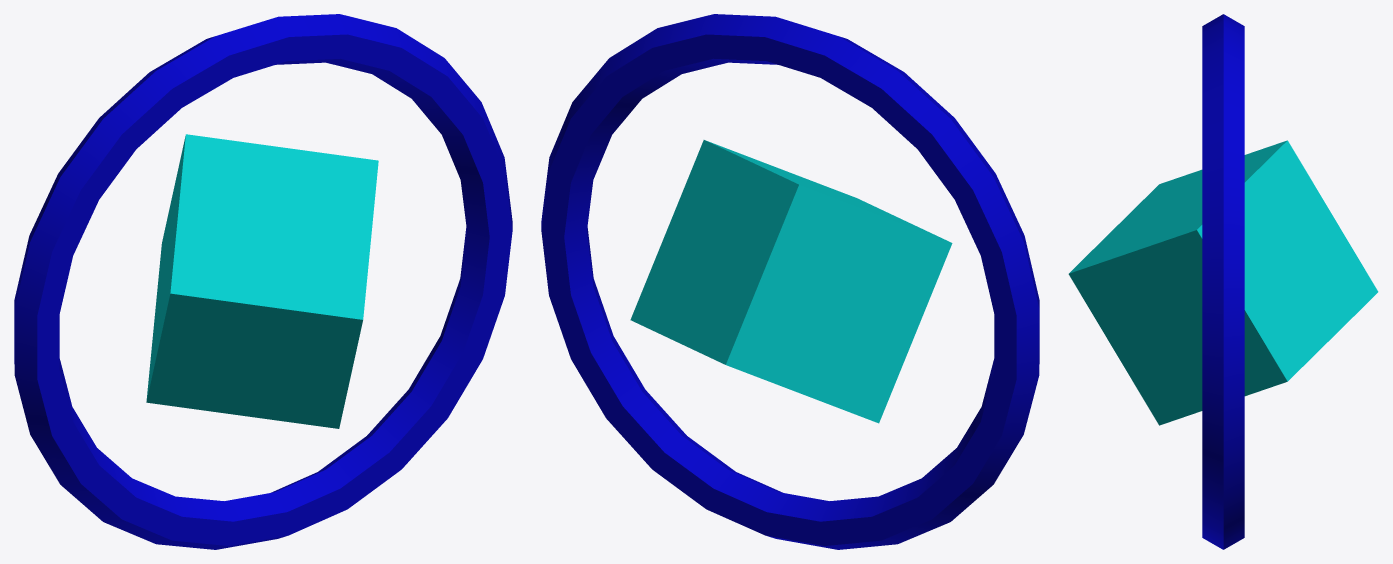
File: PowerUp_RegenerationBooster.fbx
3 renders of one model, left to right at view 1: azimuth 30°, elevation 25°; view 2: azimuth 150°, elevation 25°; view 3: azimuth 270°, elevation 25°, orthographic. The views are drawn at different scales.
Visible parts, largest first — view 1: pTorus1, pCube1; view 2: pTorus1, pCube1; view 3: pCube1, pTorus1.
Part boxes in pixels (x1=…): pTorus1: x1=14, y1=14, x2=512, y2=549; pCube1: x1=146, y1=134, x2=378, y2=428; pTorus1: x1=541, y1=14, x2=1039, y2=549; pCube1: x1=630, y1=140, x2=952, y2=423; pCube1: x1=1068, y1=140, x2=1378, y2=425; pTorus1: x1=1202, y1=14, x2=1244, y2=549.
Size of the model in its own units: 3.83 by 3.84 by 2.22.
